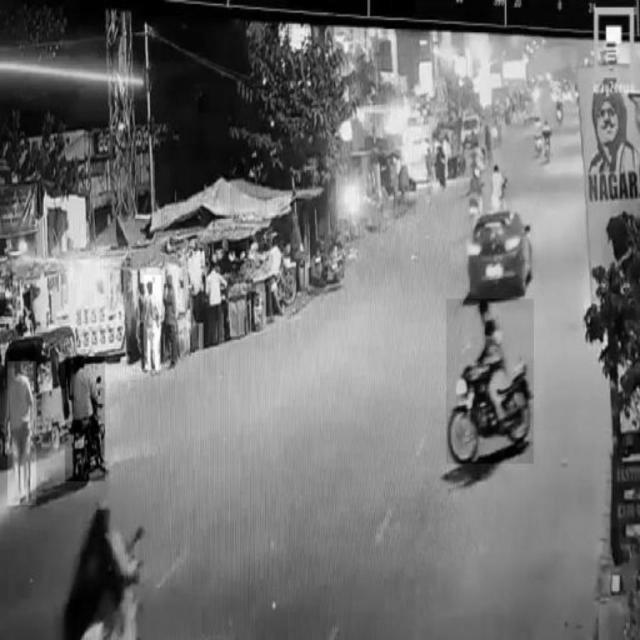person: (8, 361, 36, 505), (144, 276, 161, 370)
vehicle: (446, 299, 534, 464), (9, 327, 76, 445), (463, 213, 535, 285), (66, 357, 106, 481)
